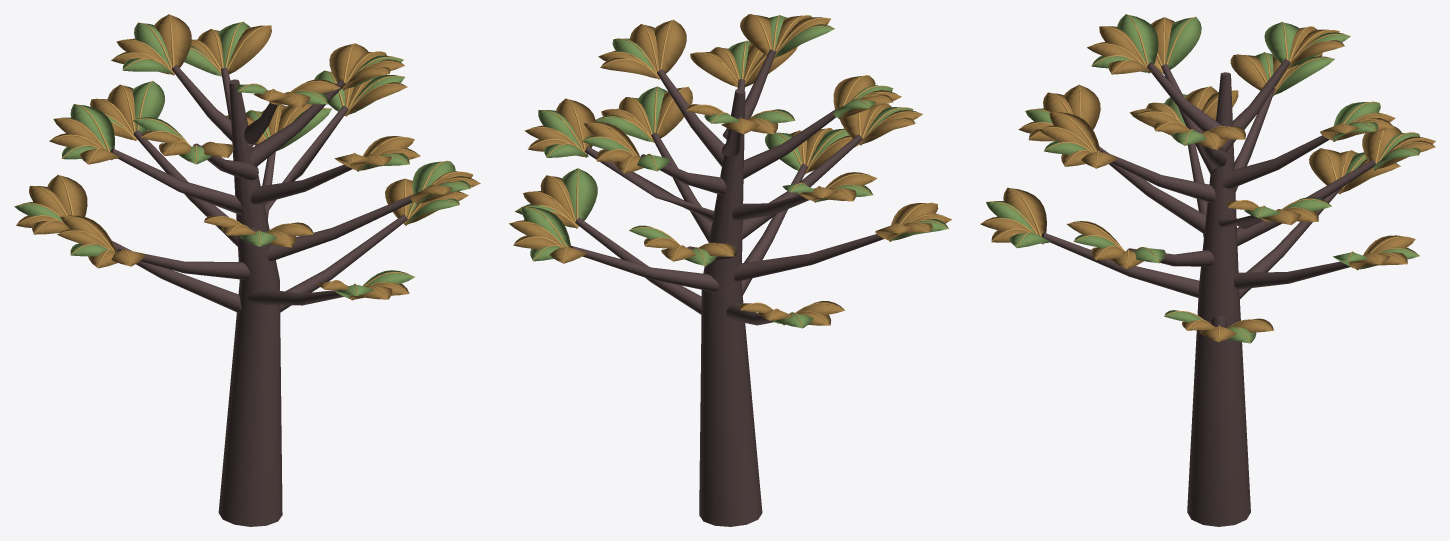
The model's file is vespera_ginkgo.glb.
3 renders of one model, left to right at view 1: azimuth 30°, elevation 25°; view 2: azimuth 150°, elevation 25°; view 3: azimuth 270°, elevation 25°, orthographic.
Parts seen in each view (by area): view 1: vespera_ginkgo; view 2: vespera_ginkgo; view 3: vespera_ginkgo.
Boxes of the visible parts, x1,y1,x2,y2 form: vespera_ginkgo: [14, 14, 480, 526]; vespera_ginkgo: [509, 14, 951, 526]; vespera_ginkgo: [980, 14, 1435, 526].
Size of the model in its own units: 11.1 by 12.26 by 10.71.
